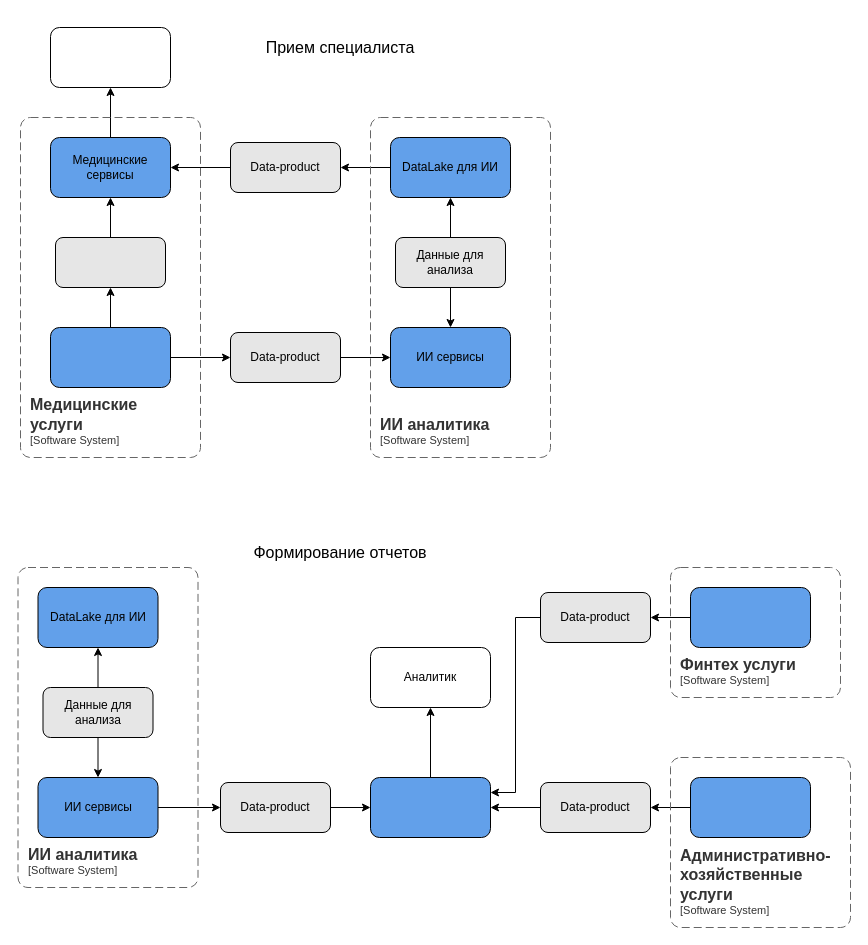
This 868x945 diagram has some shape labels left out. The shapes that lost their labels are listed below. From the top down, each one's centre as x and y in pixels, then its label:
(110,57): Врач
(110,262): Медицинская карта
(110,357): DWH клиники
(750,617): DWH финансовых данных
(430,807): Витрина данных
(750,807): DWH административно-хозязственных данных
